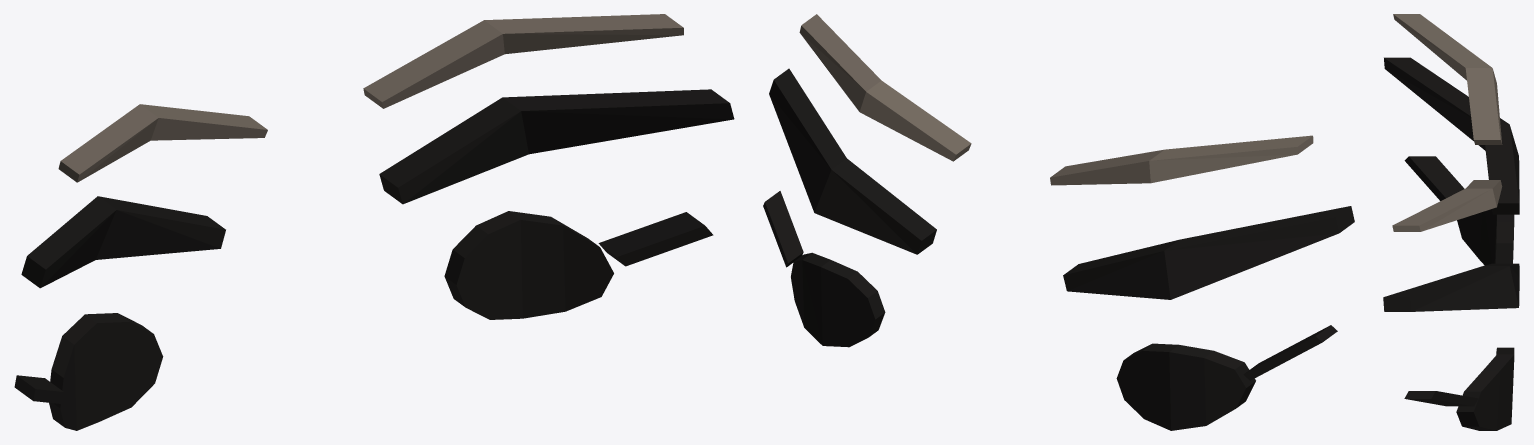
Rendered from scholar_female_face.obj.
The picture shows the model from 3 angles, left to right: view 1: azimuth 30°, elevation 25°; view 2: azimuth 150°, elevation 25°; view 3: azimuth 270°, elevation 25°; orthographic projection. The views are drawn at different scales.
Parts seen in each view (by area): view 1: scholar_female_face; view 2: scholar_female_face; view 3: scholar_female_face.
Part boxes in pixels (x1,y1,x2,y2): scholar_female_face: (14,14,734,430); scholar_female_face: (763,14,1354,430); scholar_female_face: (1383,14,1519,430).
Size of the model in its own units: 0.2982 by 0.1317 by 0.0708.
